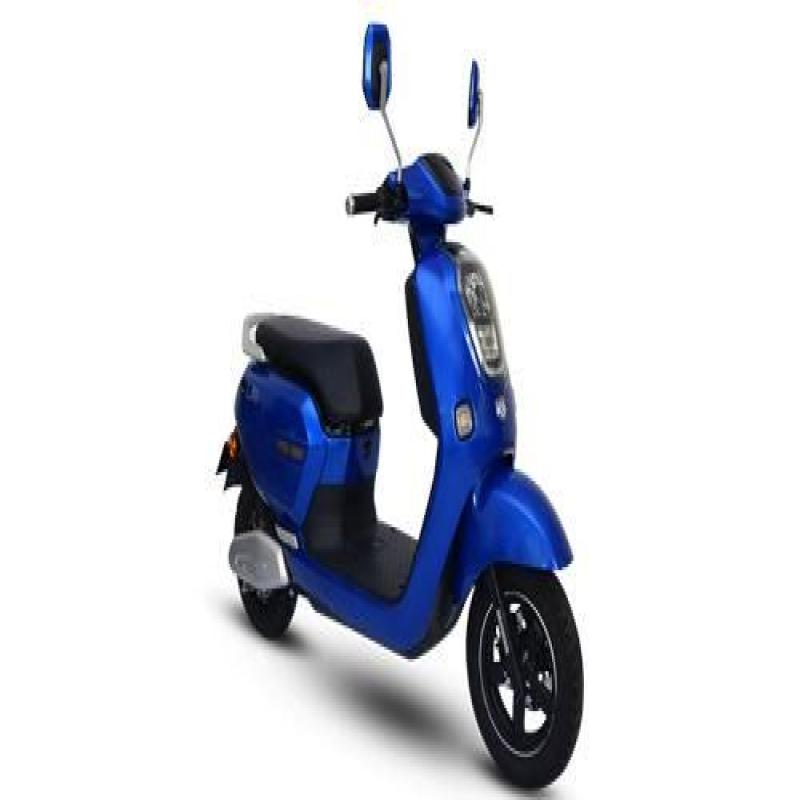bike: (125, 17, 627, 800)
